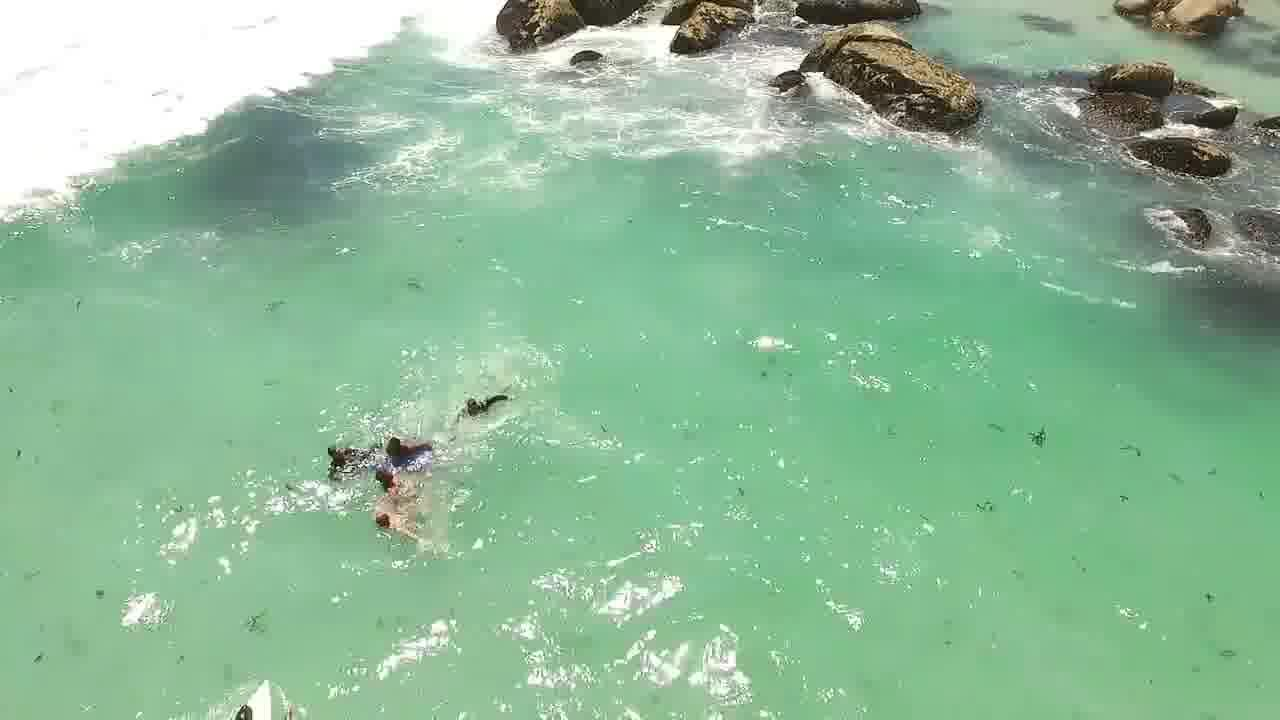swimmer: (456, 385, 502, 429), (374, 421, 408, 459), (368, 461, 407, 492), (363, 506, 395, 537), (317, 430, 346, 464)
